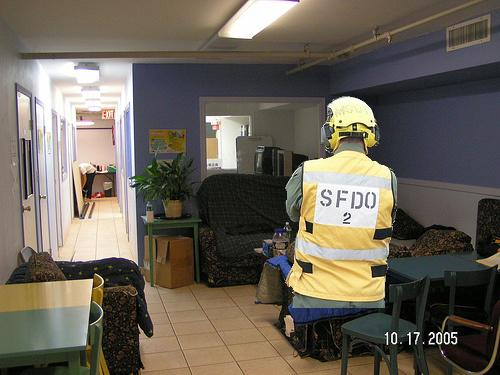tampered: (286, 97, 397, 308)
